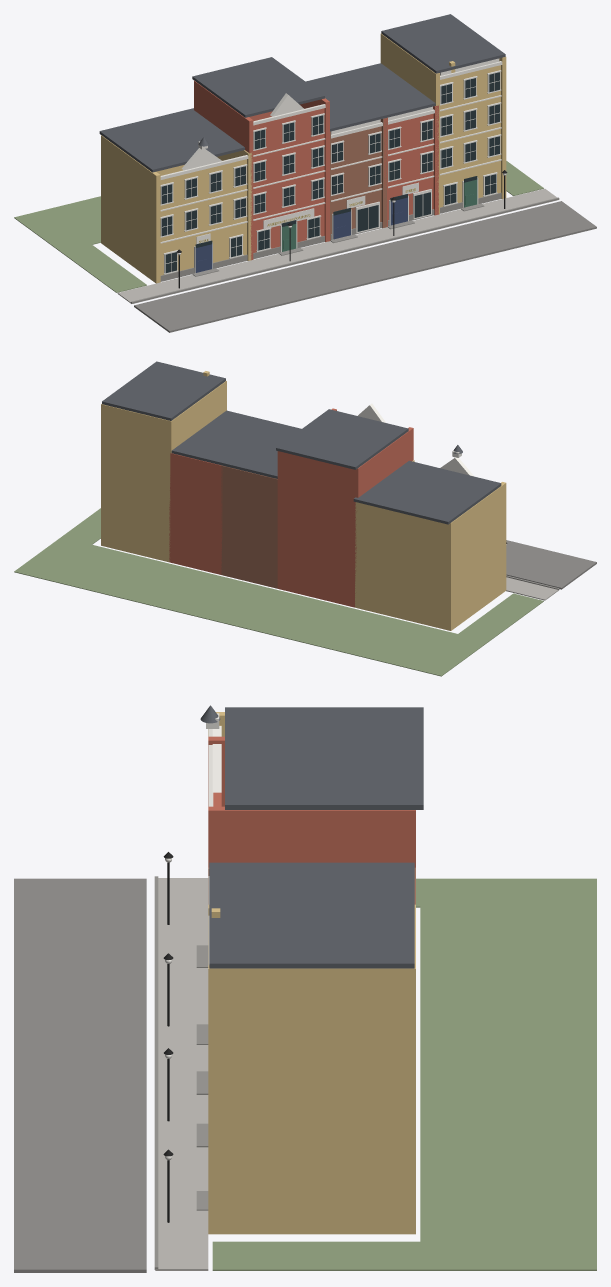
Rendered from copenhagen_industrial_town.fbx.
3 renders of one model, top to bottom at view 1: azimuth 30°, elevation 25°; view 2: azimuth 150°, elevation 25°; view 3: azimuth 270°, elevation 25°, orthographic. The views are drawn at different scales.
Visible parts, largest first — view 1: street, side_wall_l, sidewalk, wall.001, wall, roof, wall.004, roof.001, roof.004, roof.003, wall.002, yard (+17 smaller); view 2: yard, back_wall.002, back_wall.001, back_wall, side_wall_l, back_wall.003, back_wall.004, roof, roof.001, roof.004, roof.003, street (+7 smaller); view 3: yard, side_wall_r.004, street, sidewalk, roof.001, roof.004, side_wall_r.001, roof.002, side_path_r, roof, curb.
Part boxes in pixels (box(x1,y1,x2,y2)): street: box(134, 201, 596, 332); side_wall_l: box(101, 135, 160, 283); sidewalk: box(117, 188, 557, 303); wall.001: box(253, 108, 324, 252); wall: box(160, 159, 246, 275); roof: box(99, 108, 244, 172); wall.004: box(440, 65, 500, 207); roof.001: box(192, 57, 324, 117); roof.004: box(381, 14, 505, 73); roof.003: box(331, 63, 435, 117); wall.002: box(331, 126, 381, 233); yard: box(14, 196, 100, 250); yard: box(14, 537, 464, 676); back_wall.002: box(279, 451, 355, 607); back_wall.001: box(357, 502, 448, 630); back_wall: box(103, 404, 169, 562); side_wall_l: box(447, 482, 506, 630); back_wall.003: box(222, 466, 277, 588); back_wall.004: box(170, 453, 221, 574); roof: box(353, 460, 501, 524); roof.001: box(276, 409, 408, 469); roof.004: box(102, 361, 225, 420); roof.003: box(171, 410, 275, 464); street: box(506, 540, 596, 589); yard: box(420, 878, 596, 1270); side_wall_r.004: box(208, 965, 415, 1234); street: box(14, 878, 146, 1272); sidewalk: box(155, 878, 208, 1270); roof.001: box(225, 732, 423, 809); roof.004: box(209, 900, 414, 968); side_wall_r.001: box(208, 806, 415, 867); roof.002: box(209, 862, 414, 899); side_path_r: box(212, 1241, 508, 1270); roof: box(225, 707, 423, 732); curb: box(154, 876, 158, 1269).
Size of the model in its own units: 4190 by 1474 by 2640.
